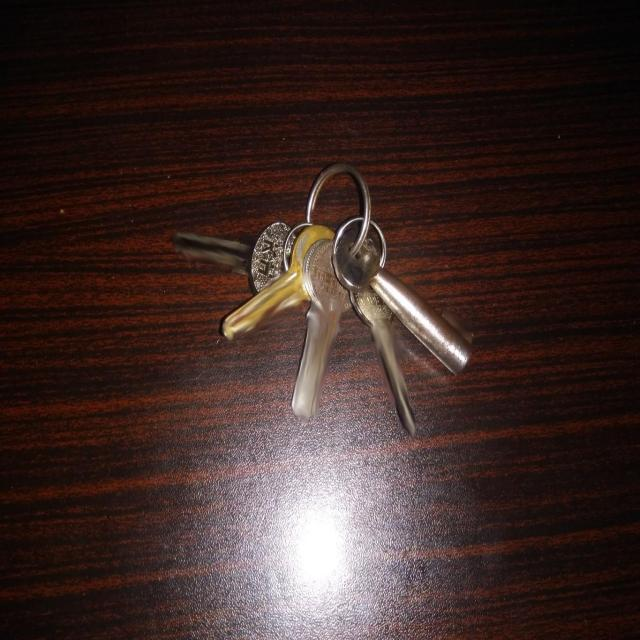Frontdoor keys: (160, 211, 479, 441)
